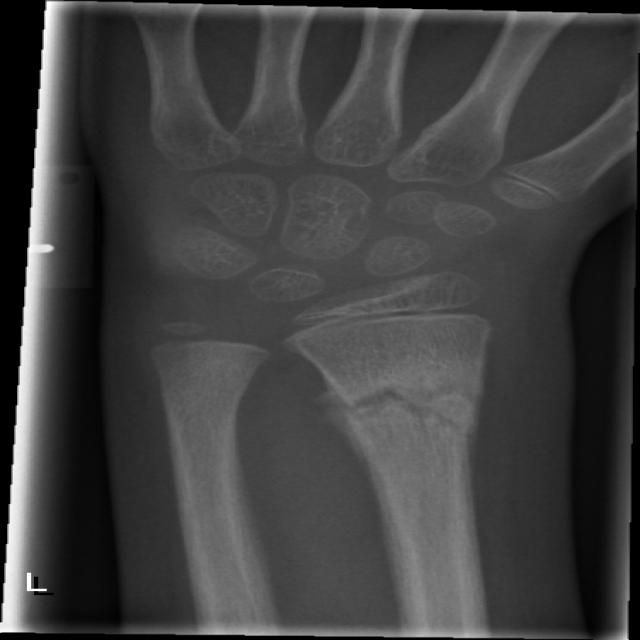radius fracture: (288, 351, 528, 540)
